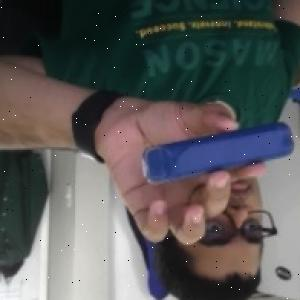Diamond-E-Ciggirate: (139, 119, 300, 187)
